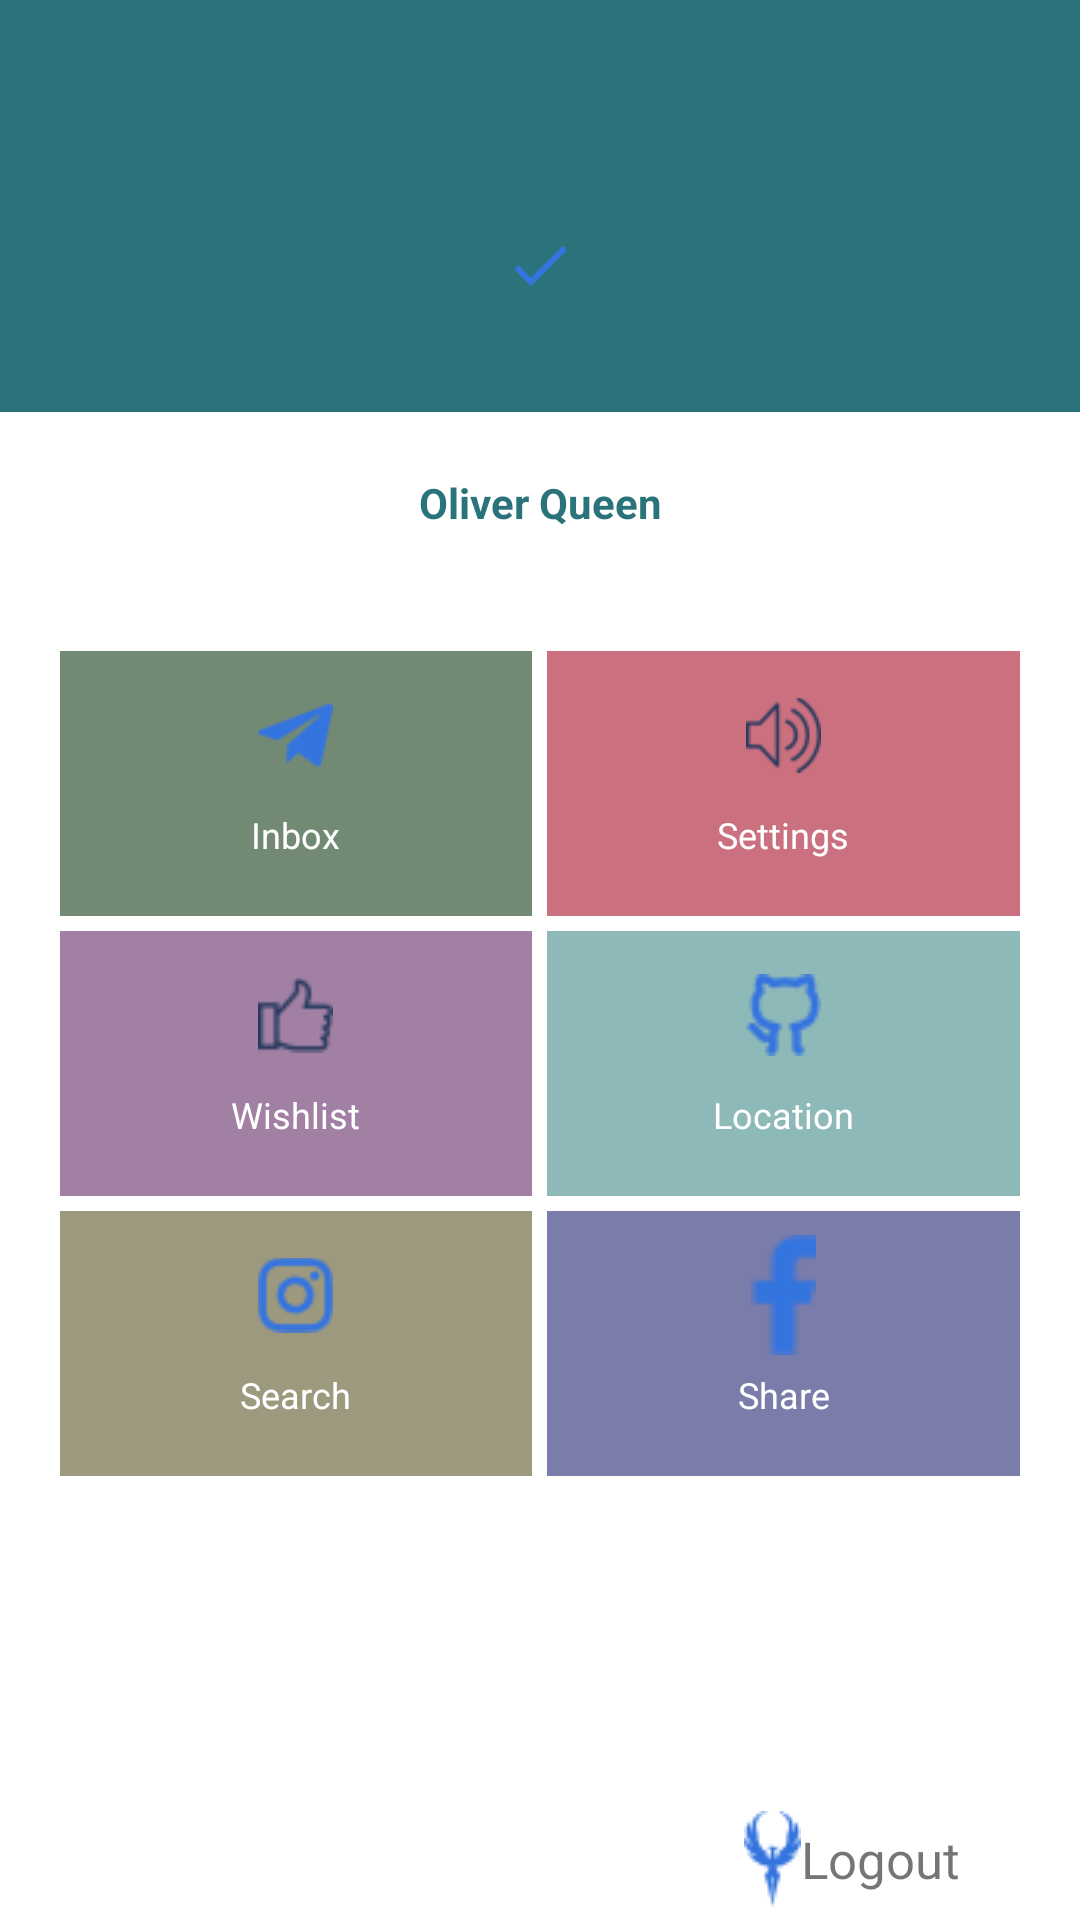

Screen size 1080w x 1920h. Icon name, then its center in pixels as (x=x, y=y):
check: (x=540, y=266)
like: (x=295, y=1015)
speaker: (x=783, y=735)
